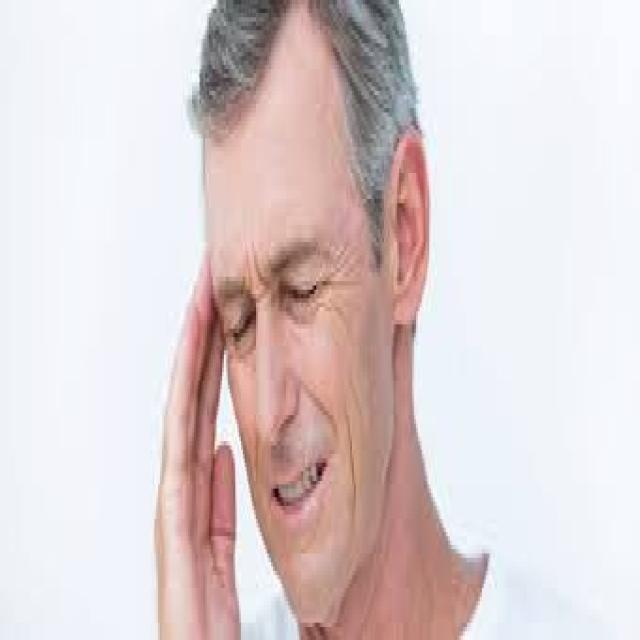normal_face: (208, 29, 428, 614)
